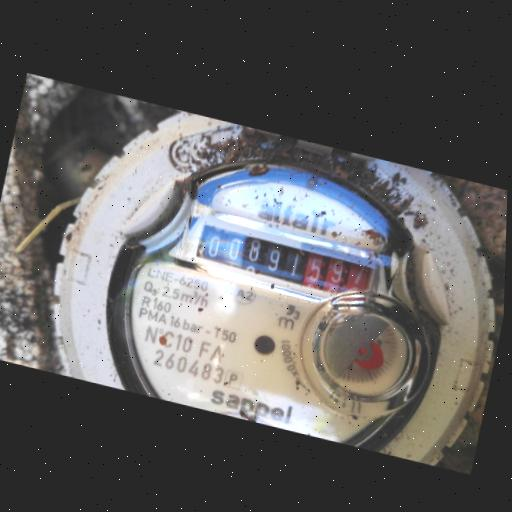0: (220, 229, 249, 268), (201, 224, 228, 263)
1: (279, 244, 308, 284)
5: (300, 250, 328, 289)
7: (344, 261, 372, 296)
8: (239, 234, 268, 274)
9: (320, 254, 353, 296), (260, 239, 288, 279)
border_water_meter_number: (187, 213, 381, 310)
